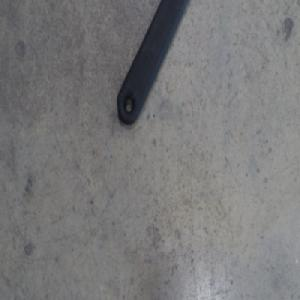AdjustableWrench: (116, 0, 185, 124)
